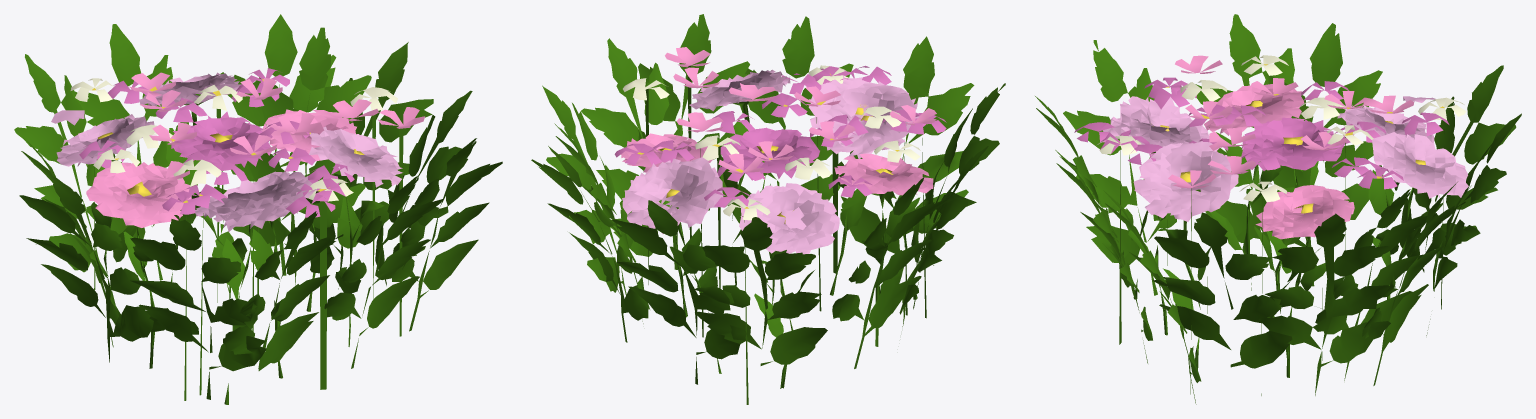
3 views of the same model, side by side, from view 1: azimuth 30°, elevation 25°; view 2: azimuth 150°, elevation 25°; view 3: azimuth 270°, elevation 25° (orthographic). The views are drawn at different scales.
Visible parts, largest first — view 1: 6a1c3ed6; view 2: 6a1c3ed6; view 3: 6a1c3ed6.
Boxes of the visible parts, left/top/right/bottom form: 6a1c3ed6: left=14, top=14, right=502, bottom=404; 6a1c3ed6: left=531, top=14, right=1005, bottom=404; 6a1c3ed6: left=1035, top=14, right=1521, bottom=404.
Size of the model in its own units: 0.15 by 0.0779 by 0.1525.
Materials: 1 (1 with a texture image).
